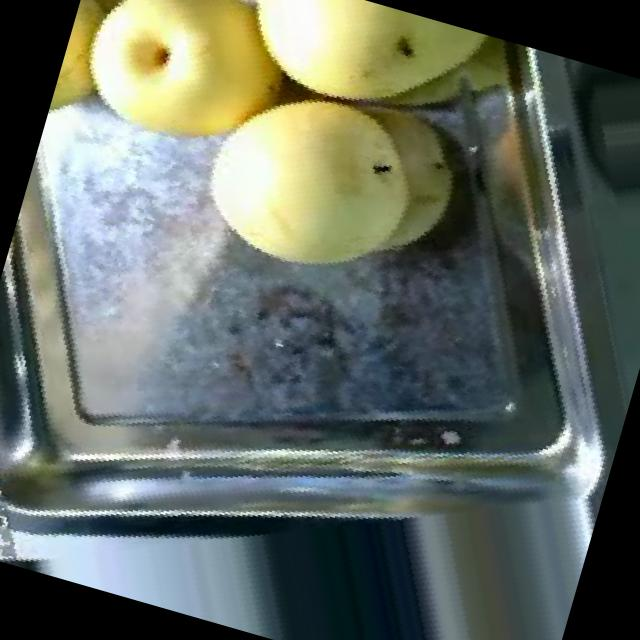Fruit: (173, 34, 497, 340), (42, 0, 339, 204), (204, 0, 522, 175)
